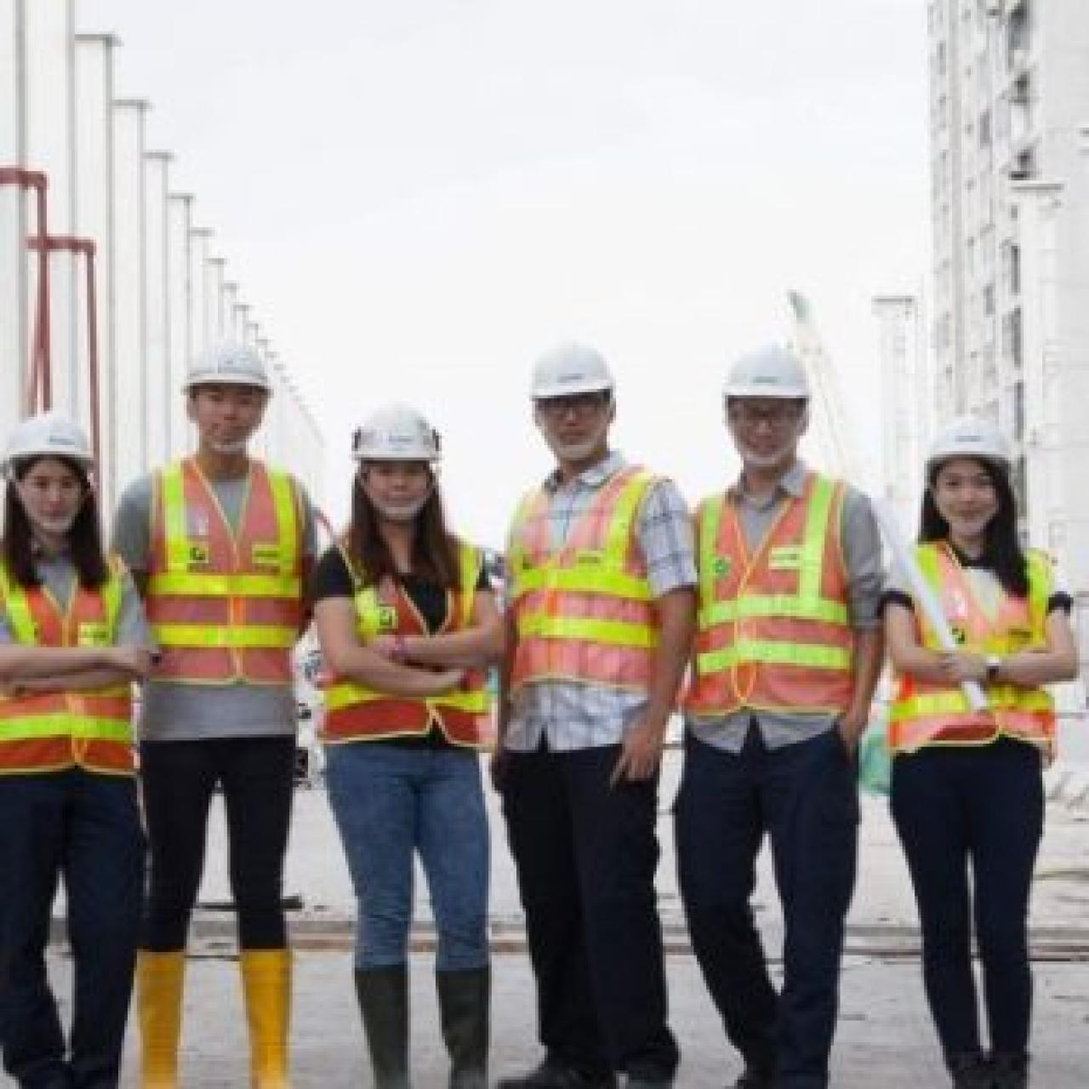Person: (653, 328, 899, 1086), (472, 331, 707, 1086), (118, 331, 328, 1086), (874, 394, 1089, 1089), (318, 399, 512, 1081), (0, 406, 167, 1069)
Safety_Vest: (686, 470, 855, 721), (142, 452, 302, 699), (501, 470, 668, 699), (329, 528, 496, 754), (891, 541, 1055, 759), (0, 554, 145, 787)
